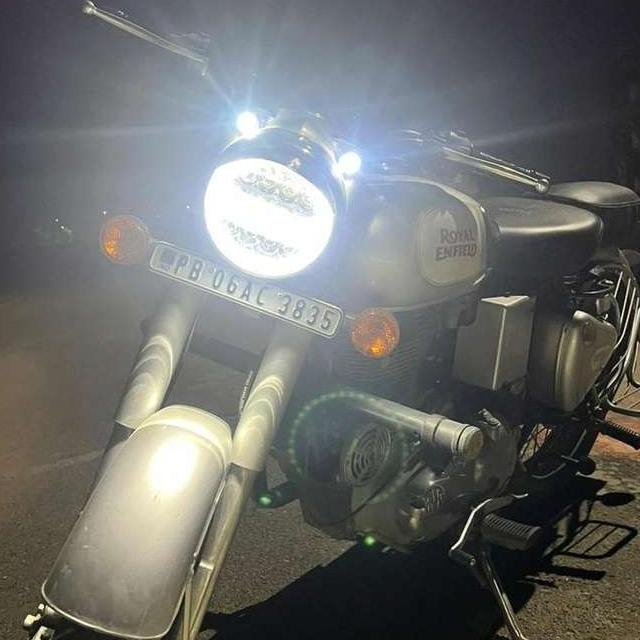Indian_Number_Plate: (146, 243, 344, 340)
